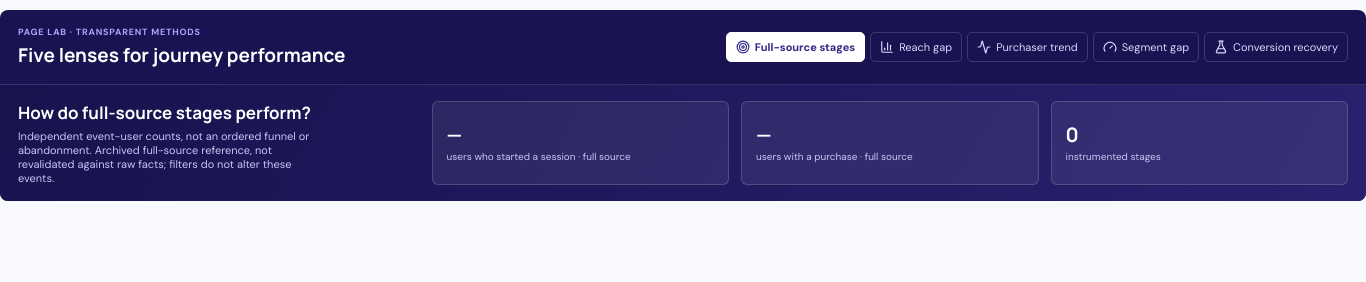
Bilingual lens presentation › caps funnel incremental orders consistently with conversion
This screenshot has width=1366, height=282.
Click the tab "Conversion recovery" at (1276, 47), box [1204,32,1348,62]
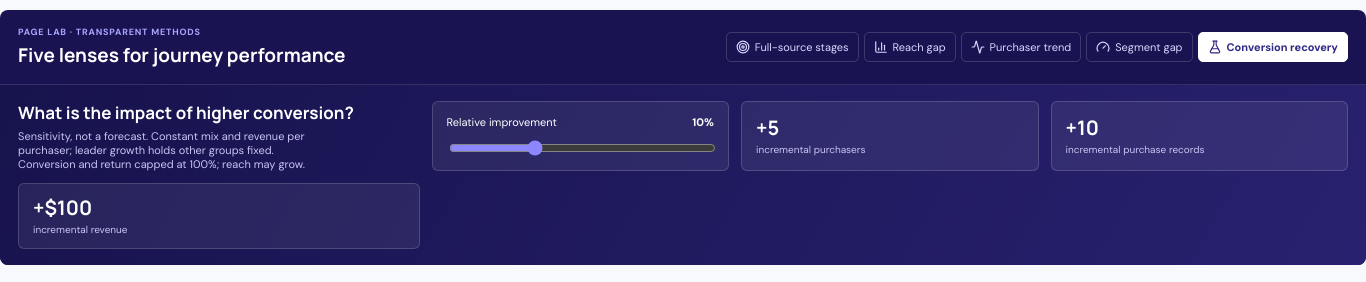
Check: the text "incremental purchasers" is shown, box [756,143,866,156]
Check: the text "incremental purchase records" is shown, box [1066,143,1204,156]
Check: the text "incremental revenue" is shown, box [33,223,128,236]
